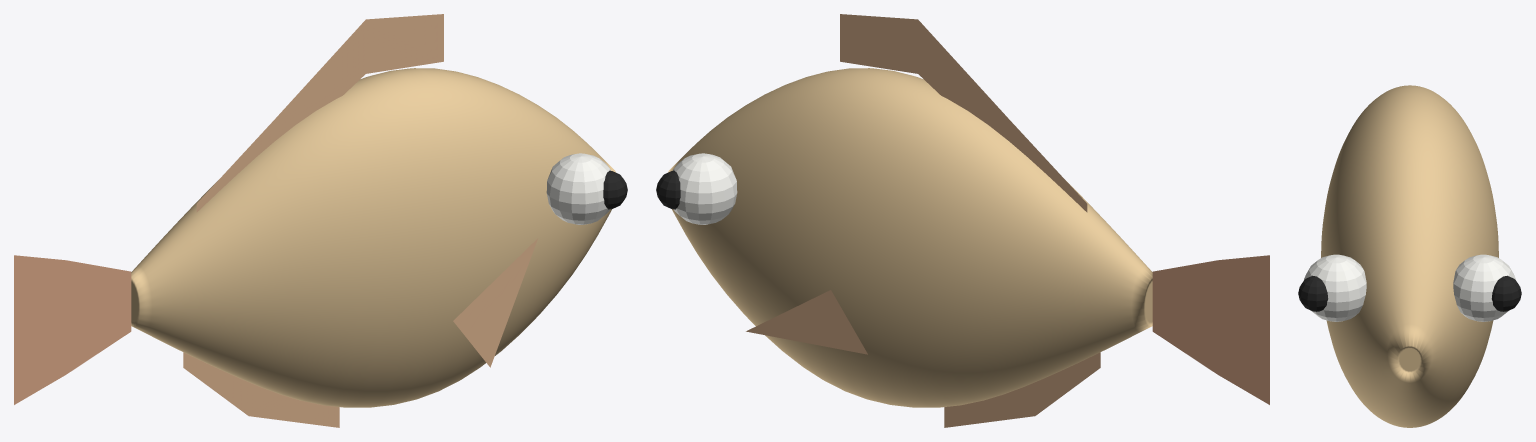
Rendered from tiger-barb.glb.
3 renders of one model, left to right at view 1: azimuth 30°, elevation 25°; view 2: azimuth 150°, elevation 25°; view 3: azimuth 270°, elevation 25°, orthographic. The views are drawn at different scales.
Visible parts, largest first — view 1: tiger-barb_body, tiger-barb_tail, tiger-barb_dorsal, tiger-barb_anal, tiger-barb_pec_R, tiger-barb_eyew_R, tiger-barb_eye_R; view 2: tiger-barb_body, tiger-barb_tail, tiger-barb_dorsal, tiger-barb_anal, tiger-barb_pec_L, tiger-barb_eyew_L, tiger-barb_eye_L; view 3: tiger-barb_body, tiger-barb_eyew_L, tiger-barb_eyew_R, tiger-barb_eye_L, tiger-barb_eye_R.
Part boxes in pixels (<box>): tiger-barb_body: <box>131,68,615,407</box>; tiger-barb_tail: <box>14,255,131,404</box>; tiger-barb_dorsal: <box>196,14,443,212</box>; tiger-barb_anal: <box>183,352,339,427</box>; tiger-barb_pec_R: <box>453,238,537,367</box>; tiger-barb_eyew_R: <box>546,153,610,224</box>; tiger-barb_eye_R: <box>603,170,627,209</box>; tiger-barb_body: <box>668,68,1152,407</box>; tiger-barb_tail: <box>1152,255,1269,404</box>; tiger-barb_dorsal: <box>840,14,1087,212</box>; tiger-barb_anal: <box>944,352,1100,427</box>; tiger-barb_pec_L: <box>746,290,867,354</box>; tiger-barb_eyew_L: <box>673,153,737,224</box>; tiger-barb_eye_L: <box>656,170,680,209</box>; tiger-barb_body: <box>1321,85,1498,427</box>; tiger-barb_eyew_L: <box>1453,254,1516,321</box>; tiger-barb_eyew_R: <box>1303,254,1366,321</box>; tiger-barb_eye_L: <box>1491,275,1521,311</box>; tiger-barb_eye_R: <box>1298,275,1328,311</box>.
Bounding box in the file's own units: 0.46 × 0.295 × 0.158.
